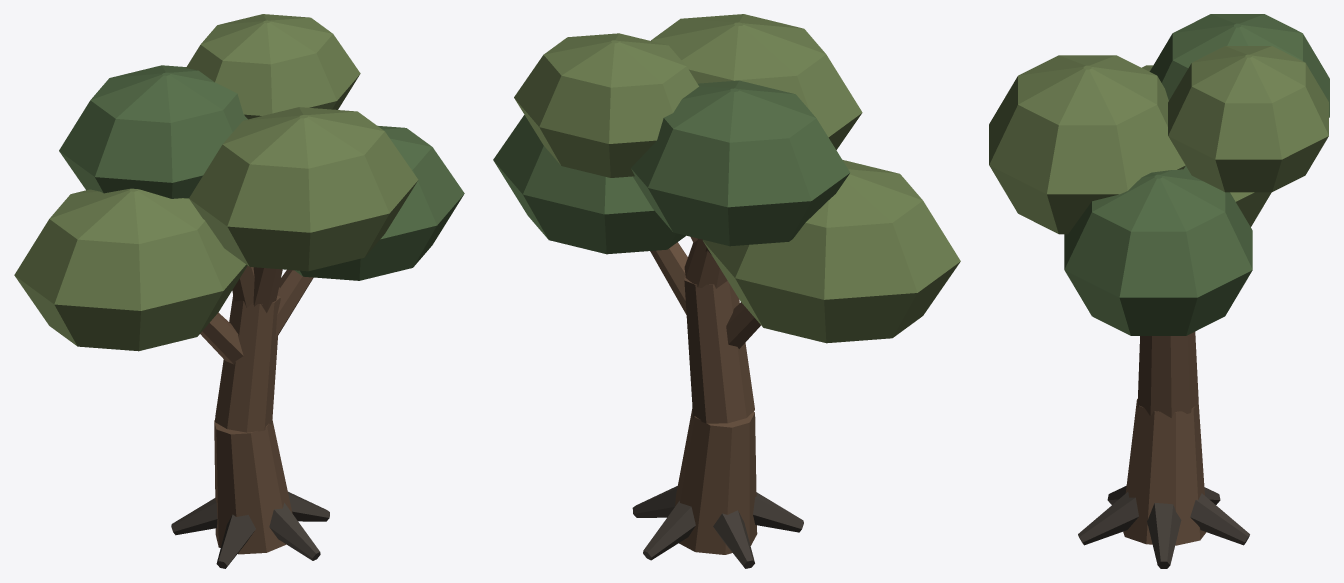
File: NAT_V3_Tree_SplitOak.glb
3 renders of one model, left to right at view 1: azimuth 30°, elevation 25°; view 2: azimuth 150°, elevation 25°; view 3: azimuth 270°, elevation 25°, orthographic. The views are drawn at different scales.
Visible parts, largest first — view 1: NAT_V3_Tree_SplitOak; view 2: NAT_V3_Tree_SplitOak; view 3: NAT_V3_Tree_SplitOak.
Boxes of the visible parts, x1=… form: NAT_V3_Tree_SplitOak: x1=14, y1=14, x2=464, y2=568; NAT_V3_Tree_SplitOak: x1=493, y1=14, x2=960, y2=568; NAT_V3_Tree_SplitOak: x1=989, y1=14, x2=1329, y2=568.
Bounding box in the file's own units: 3.63 × 4.09 × 2.5.
